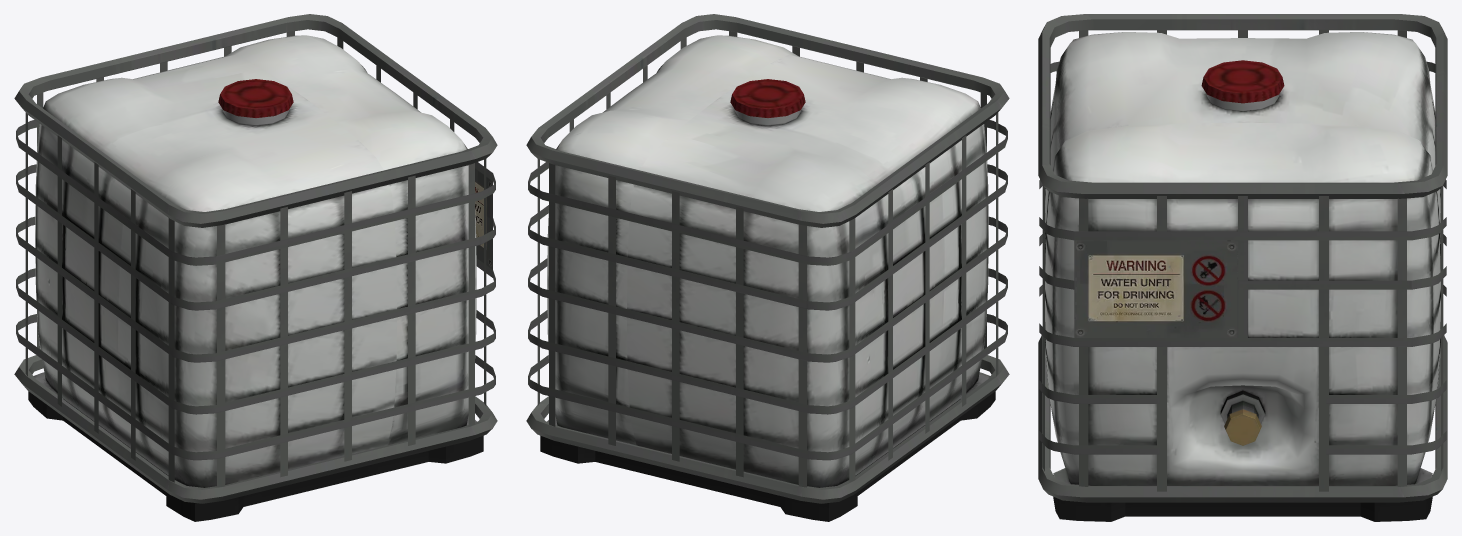
3 views of the same model, side by side, from view 1: azimuth 30°, elevation 25°; view 2: azimuth 150°, elevation 25°; view 3: azimuth 270°, elevation 25° (orthographic). The views are drawn at different scales.
Visible parts, largest first — view 1: body0_model0_lod0_mesh0; view 2: body0_model0_lod0_mesh0; view 3: body0_model0_lod0_mesh0.
Part boxes in pixels (left/top/right/bottom): body0_model0_lod0_mesh0: left=14, top=14, right=497, bottom=521; body0_model0_lod0_mesh0: left=526, top=14, right=1009, bottom=521; body0_model0_lod0_mesh0: left=1038, top=14, right=1447, bottom=521.
Bounding box in the file's own units: 80.39 × 79.04 × 80.39.
Materials: 1 (1 with a texture image).
